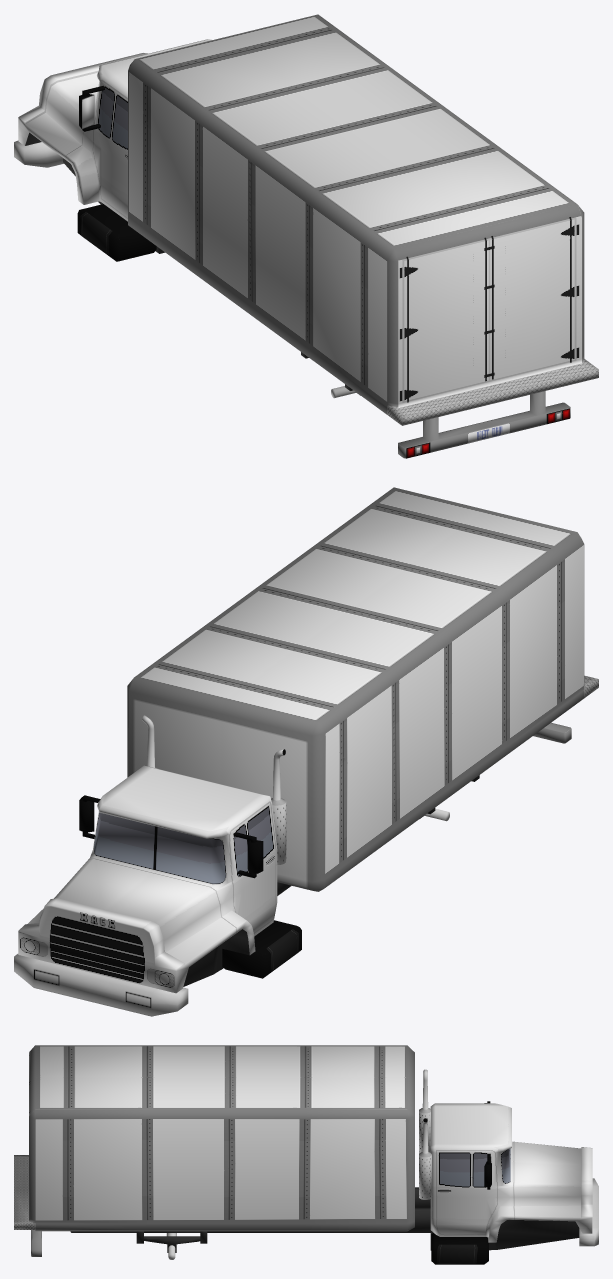
File: 87macktruckbox.fbx
3 renders of one model, top to bottom at view 1: azimuth 30°, elevation 25°; view 2: azimuth 150°, elevation 25°; view 3: azimuth 270°, elevation 25°, orthographic. The views are drawn at different scales.
Visible parts, largest first — view 1: 87mackd680box; view 2: 87mackd680box; view 3: 87mackd680box.
Boxes of the visible parts, left/top/right/bottom form: 87mackd680box: left=14, top=14, right=598, bottom=458; 87mackd680box: left=14, top=487, right=598, bottom=1016; 87mackd680box: left=14, top=1045, right=598, bottom=1264.
Size of the model in its own units: 2.76 by 3.07 by 9.9.
